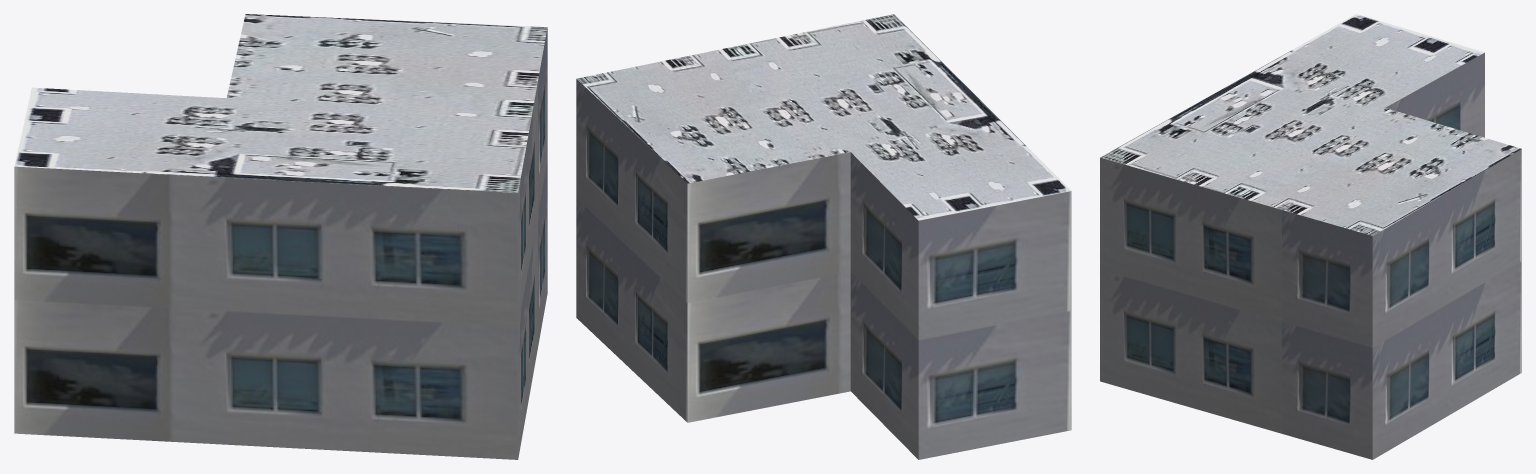
File: ResTex__3922.fbx
The picture shows the model from 3 angles, left to right: view 1: azimuth 30°, elevation 25°; view 2: azimuth 150°, elevation 25°; view 3: azimuth 270°, elevation 25°; orthographic projection. The views are drawn at different scales.
Parts seen in each view (by area): view 1: CityEngineMaterial_10_m, CityEngineMaterial_8_m; view 2: CityEngineMaterial_10_m, CityEngineMaterial_8_m; view 3: CityEngineMaterial_10_m, CityEngineMaterial_8_m.
Boxes of the visible parts, x1,y1,x2,y2 form: CityEngineMaterial_10_m: (14,27,547,459); CityEngineMaterial_8_m: (14,14,547,192); CityEngineMaterial_10_m: (576,79,1071,459); CityEngineMaterial_8_m: (577,14,1070,220); CityEngineMaterial_10_m: (1100,52,1521,459); CityEngineMaterial_8_m: (1100,14,1521,235).
Size of the model in its own units: 12.76 by 6 by 10.25.
2 materials, 2 textured.
